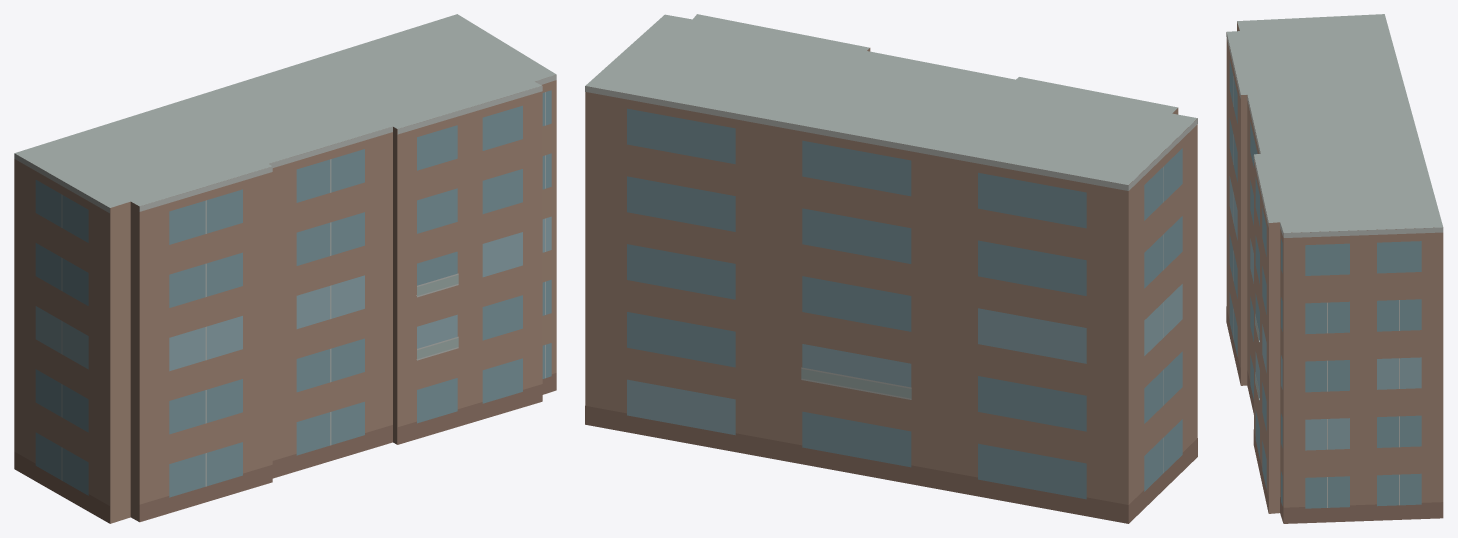
The model's file is survey-upis-32665569.glb.
The picture shows the model from 3 angles, left to right: view 1: azimuth 30°, elevation 25°; view 2: azimuth 150°, elevation 25°; view 3: azimuth 270°, elevation 25°; orthographic projection. The views are drawn at different scales.
Parts seen in each view (by area): view 1: survey-upis-32665569.tmp; view 2: survey-upis-32665569.tmp; view 3: survey-upis-32665569.tmp.
Part boxes in pixels (box(x1,y1,x2,y2)): survey-upis-32665569.tmp: box(14, 14, 556, 523); survey-upis-32665569.tmp: box(585, 14, 1197, 523); survey-upis-32665569.tmp: box(1226, 14, 1443, 523).
Bounding box in the file's own units: 22.54 × 13.95 × 9.43.
